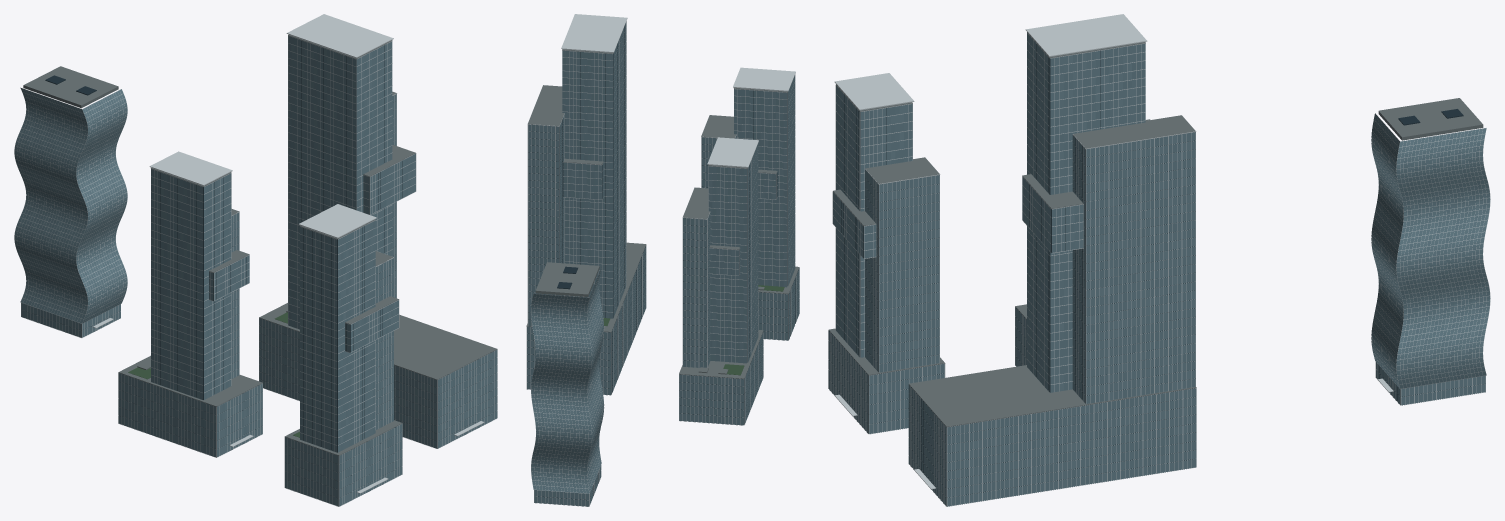
File: original-landmarks.glb
The picture shows the model from 3 angles, left to right: view 1: azimuth 30°, elevation 25°; view 2: azimuth 150°, elevation 25°; view 3: azimuth 270°, elevation 25°; orthographic projection. The views are drawn at different scales.
Visible parts, largest first — view 1: Landmarks · glass, Landmarks · frame, Landmarks · roof, Landmarks · dark; view 2: Landmarks · glass, Landmarks · frame, Landmarks · roof, Landmarks · dark, Landmarks · garden; view 3: Landmarks · glass, Landmarks · frame, Landmarks · roof, Landmarks · dark.
Part boxes in pixels (x1,y1,x2,y2): Landmarks · glass: (14,36,497,506); Landmarks · frame: (14,14,497,506); Landmarks · roof: (23,34,497,455); Landmarks · dark: (26,40,495,506); Landmarks · glass: (527,21,799,506); Landmarks · frame: (526,14,796,506); Landmarks · roof: (526,49,799,378); Landmarks · dark: (528,25,798,500); Landmarks · garden: (603,285,784,375); Landmarks · glass: (828,33,1490,506); Landmarks · frame: (828,14,1490,506); Landmarks · roof: (829,32,1483,427); Landmarks · dark: (829,44,1485,505).
Bounding box in the file's own units: 170 × 202 × 291.
